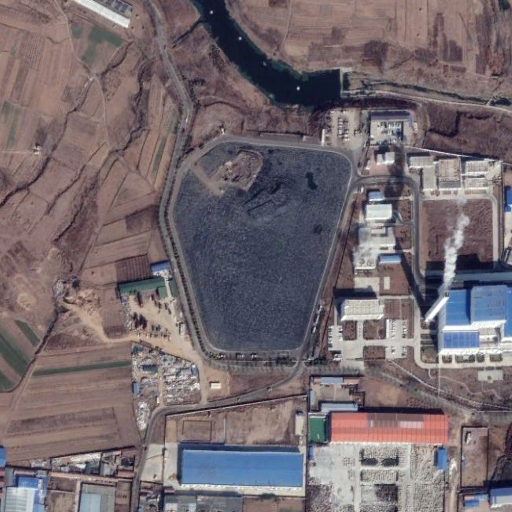lf: (164, 135, 352, 355)
